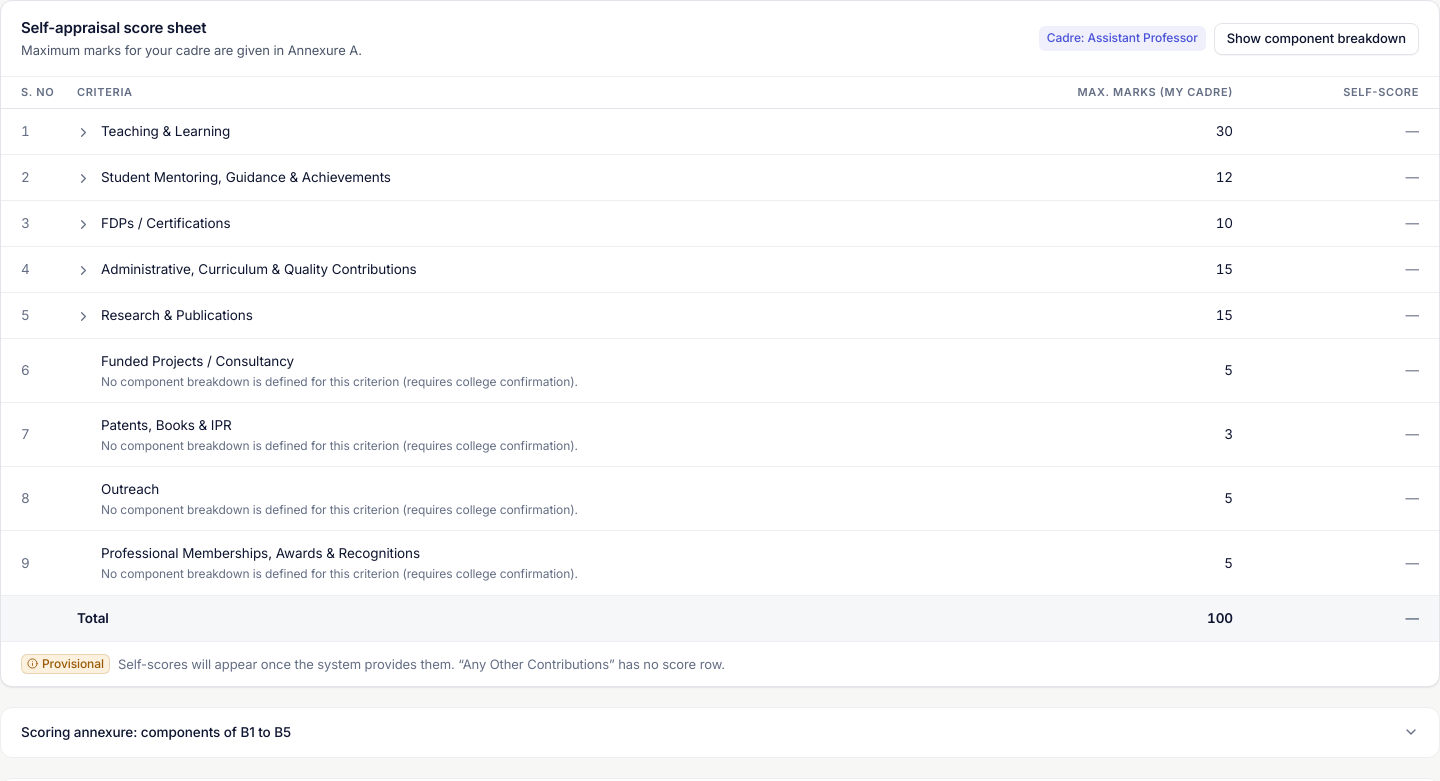
Test: component breakdown › lists each component with its maximum and a dash for the self-score
Step 1. Click the button "Show component breakdown" → (1316, 39), box [1214,23,1419,55]
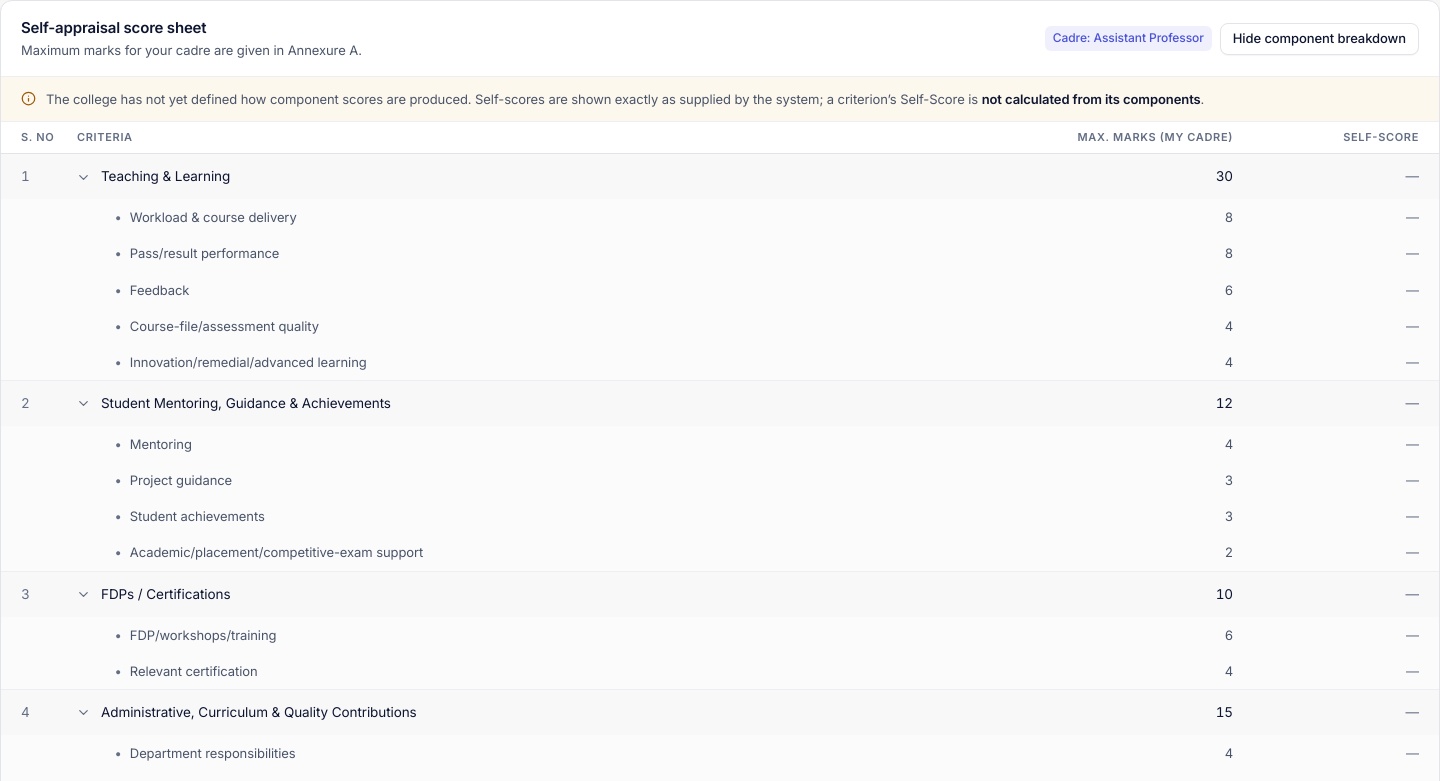
Expected: the cell "•Workload & course delivery" is shown, [65,199,944,235]
Expected: the cell "8" in the row of "Workload & course delivery" is shown, [1225,209,1233,225]
Expected: the cell "—" in the row of "Workload & course delivery" is shown, [1406,209,1419,225]
